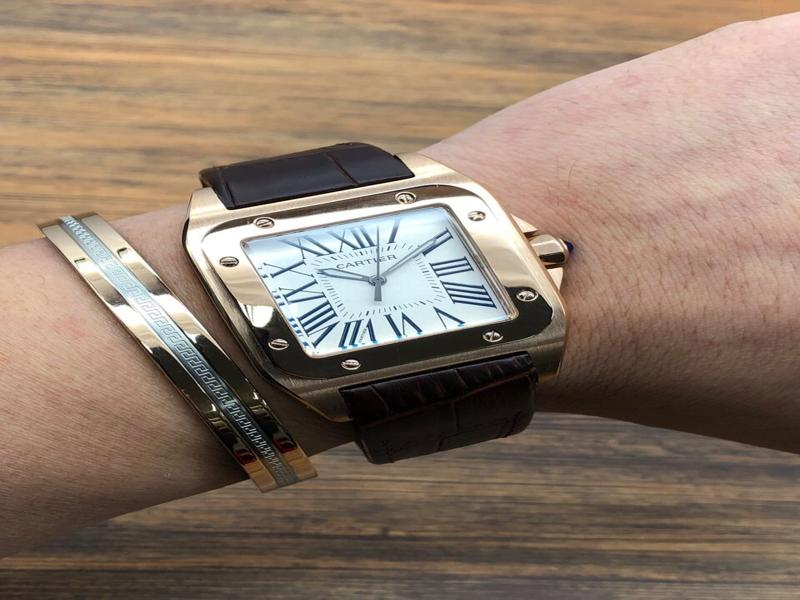watch: (181, 143, 571, 468)
